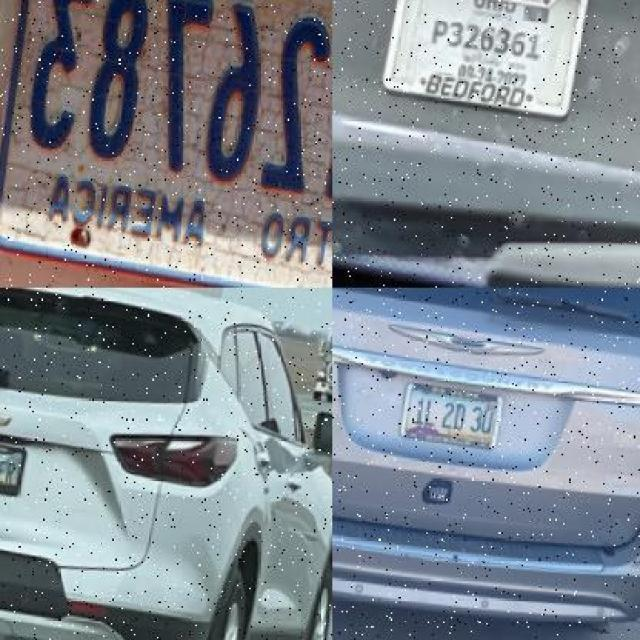LicensePlate: (5, 0, 333, 237), (383, 0, 590, 117), (402, 377, 508, 445), (0, 439, 30, 493)
